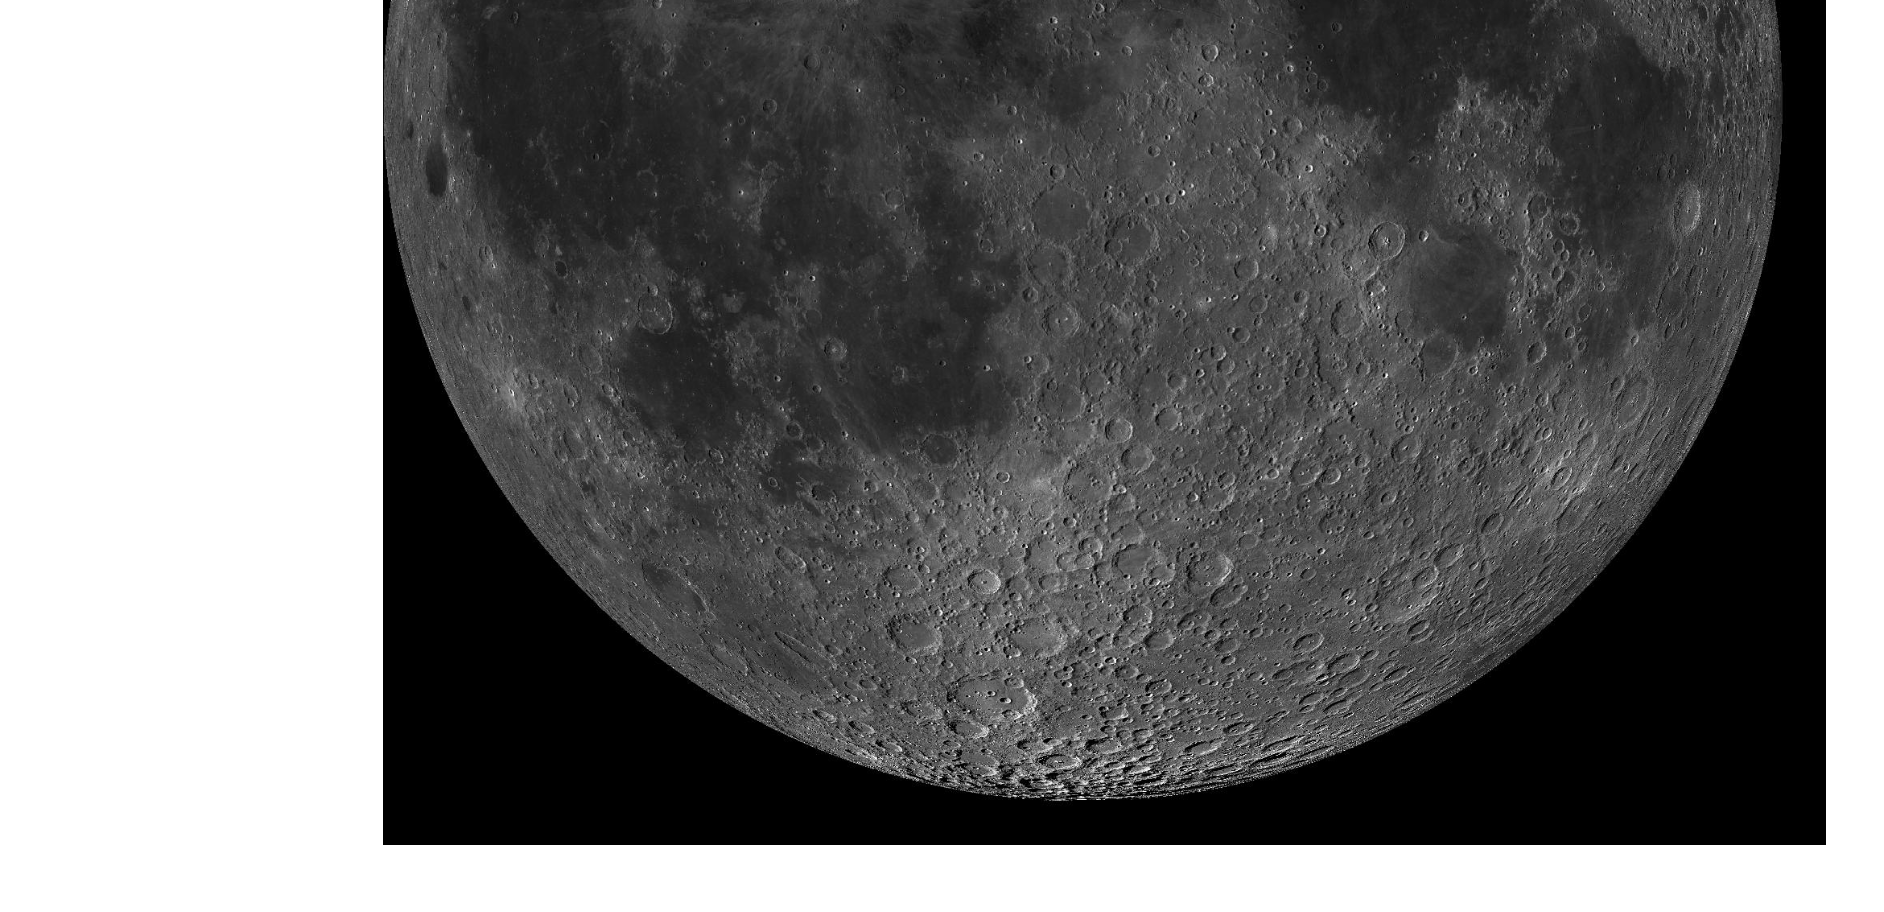crater: (1401, 205, 1534, 377), (631, 555, 745, 628), (1016, 177, 1102, 258), (877, 606, 955, 669), (621, 284, 694, 344), (1029, 374, 1090, 429), (419, 130, 460, 207), (1361, 214, 1414, 270), (912, 425, 968, 478), (1664, 177, 1709, 243), (1177, 544, 1239, 591), (631, 32, 682, 87), (1382, 428, 1435, 473), (576, 117, 620, 169), (785, 36, 823, 88), (1228, 250, 1272, 290), (567, 341, 612, 375), (961, 565, 1004, 598), (1277, 107, 1312, 148), (1101, 411, 1135, 446), (818, 334, 855, 365), (1152, 404, 1185, 437), (877, 180, 908, 215), (1191, 37, 1226, 66), (1597, 365, 1627, 397), (1105, 38, 1140, 65), (779, 417, 805, 442), (756, 97, 785, 120), (548, 256, 570, 281), (1325, 16, 1348, 38), (1296, 562, 1318, 584), (1016, 284, 1039, 304), (991, 467, 1015, 487), (764, 473, 783, 491), (806, 267, 823, 287), (505, 332, 519, 345)
